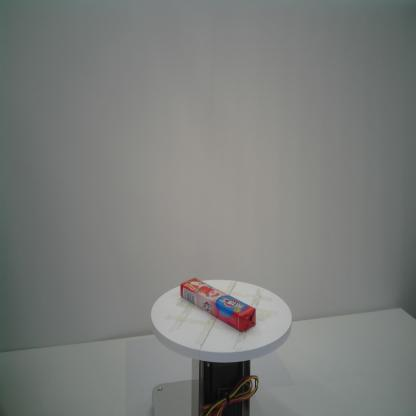Candy: (180, 277, 257, 333)
